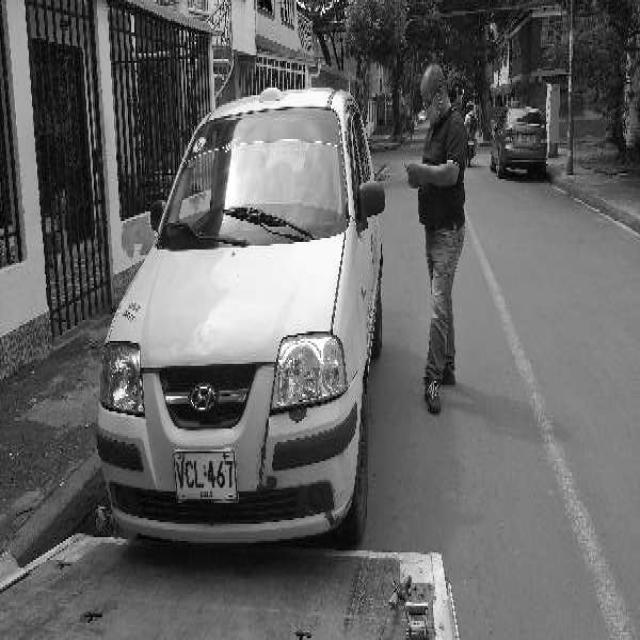plate: (175, 446, 238, 512)
